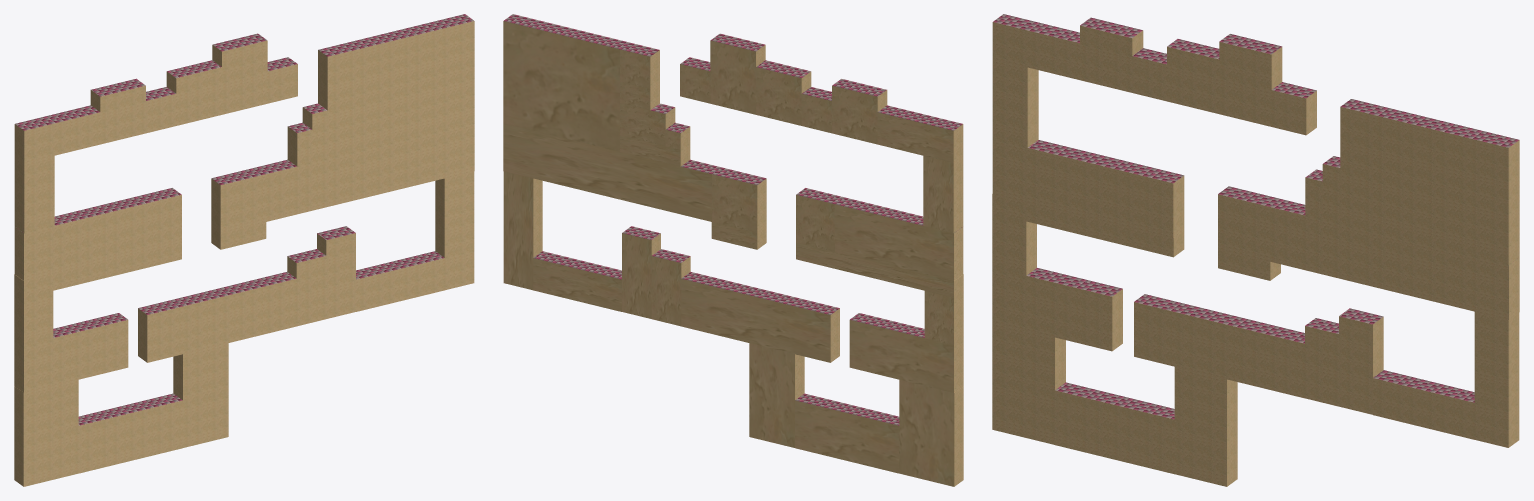
File: LVL2.FBX
3 views of the same model, side by side, from view 1: azimuth 30°, elevation 25°; view 2: azimuth 150°, elevation 25°; view 3: azimuth 330°, elevation 25° (orthographic). The views are drawn at different scales.
Visible parts, largest first — view 1: Cube__16__27; view 2: Cube__16__27; view 3: Cube__16__27.
Part boxes in pixels (x1,y1,x2,y2): Cube__16__27: [14, 14, 474, 486]; Cube__16__27: [503, 14, 963, 486]; Cube__16__27: [992, 14, 1519, 486].
Bounding box in the file's own units: 54.79 × 44.95 × 2.
2 materials, 2 textured.
